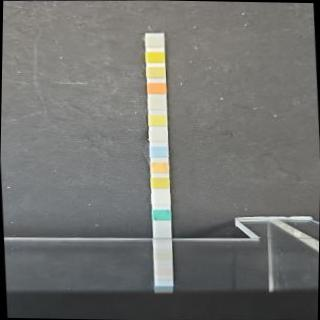mark: (146, 81, 166, 95), (152, 208, 172, 222), (146, 98, 166, 111), (150, 177, 170, 190), (150, 161, 169, 174), (148, 130, 168, 142), (150, 193, 170, 205), (149, 145, 167, 158), (145, 36, 164, 48), (145, 52, 164, 64), (147, 66, 165, 78), (148, 114, 166, 126)
